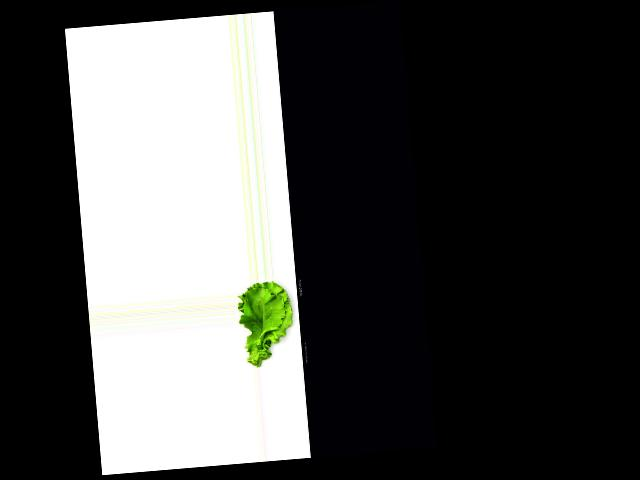lettuce: (235, 279, 300, 366)
